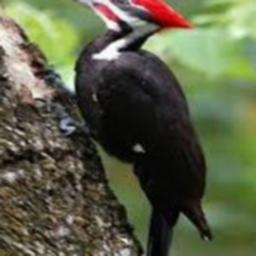Woodpecker: (44, 0, 212, 256)
